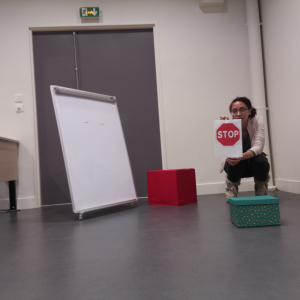big: (49, 83, 139, 217)
medium: (147, 168, 198, 206)
small: (228, 197, 282, 227)
